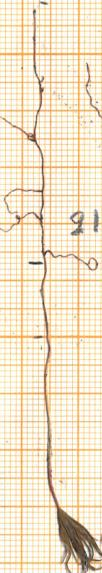flower: (44, 508, 101, 573)
root: (0, 0, 102, 274)
stem: (37, 265, 64, 510)
